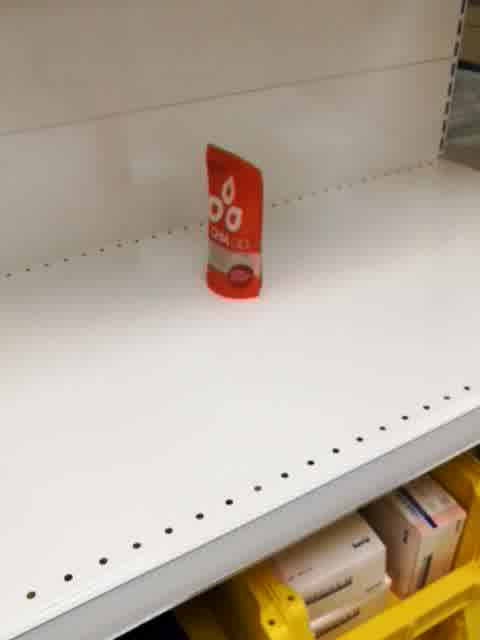whitechia: (201, 139, 268, 303)
